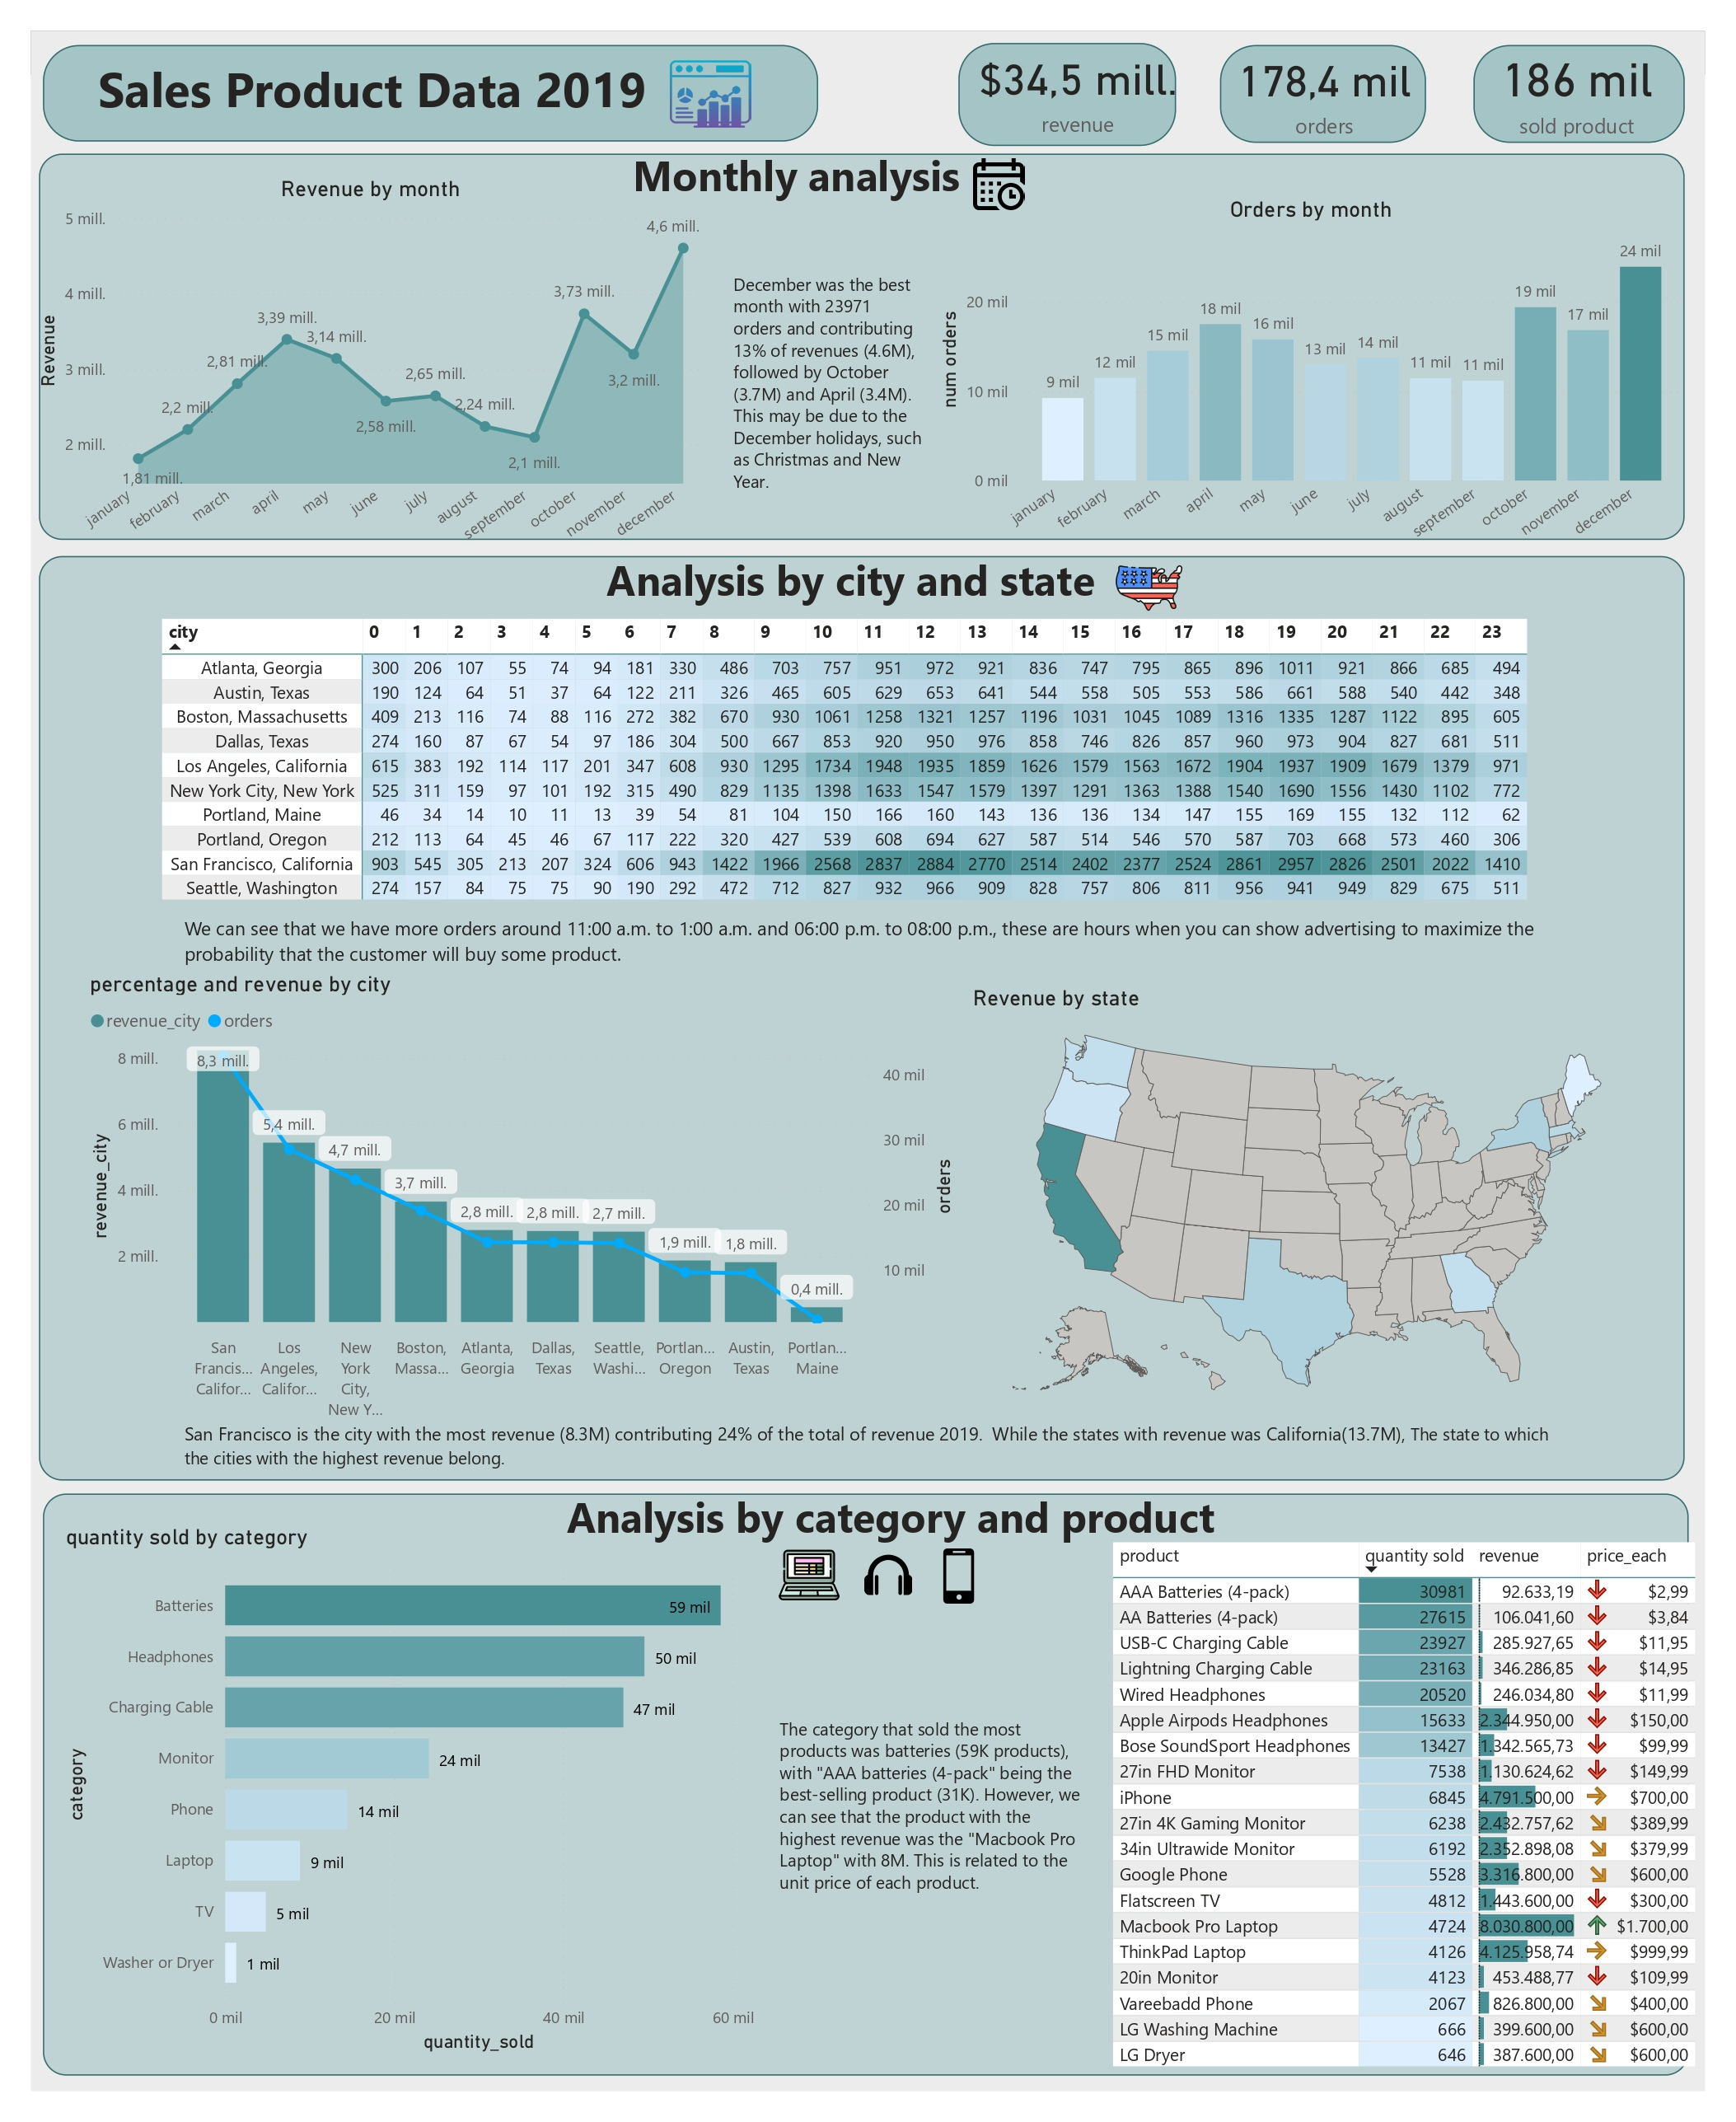

The page's visual inventory and layout, read from the dashboard file:
{"tool":"powerbi","page":{"name":"Página 1","canvas":[1300,1600],"ordinal":0},"visuals":[{"type":"lineChart","title":"Revenue by month","fields":{"Category":["revenue_month.month"],"Y":["Sum(revenue_month.revenue_month)"]},"box":[0,117.5,528.1,305.3],"z":0},{"type":"clusteredColumnChart","title":"Orders by month","fields":{"Category":["order_month.month"],"Y":["Sum(order_month.num_order_month)"]},"box":[696.5,126.3,587.7,289.5],"z":1000},{"type":"lineClusteredColumnComboChart","title":"percentage and  revenue by city","fields":{"Category":["% city.city"],"Y":["Sum(% city.revenue_state)"],"Y2":["Sum(order city.num_order)"]},"box":[45.6,738.6,680.7,356.1],"z":2000},{"type":"shapeMap","title":"Revenue by state","fields":{"Category":["revenue state.state"],"Value":["Sum(revenue state.revenue_state)"]},"box":[727,739.7,527,334.9],"z":3000},{"type":"tableEx","fields":{"Values":["products.product","Sum(products.quantity)","Sum(products.revenue)","Sum(products.price_each)"]},"box":[834.2,1180.8,465.8,417.8],"z":4000},{"type":"textbox","box":[0,0,496.4,71.4],"z":5000},{"type":"card","fields":{"Values":["Sum(Consulta1.revenue_year)"]},"box":[714,0,214,84.2],"z":6000},{"type":"card","fields":{"Values":["Sum(orders.total_orders)"]},"box":[919.3,0,178.9,84.2],"z":7000},{"type":"textbox","box":[461.4,71.9,300,77.2],"z":8000},{"type":"textbox","box":[534.9,169.8,155.6,187.3],"z":9000},{"type":"textbox","box":[438.1,395.2,515.9,55.6],"z":10000},{"type":"textbox","box":[111.1,679.4,1119,60.3],"z":11000},{"type":"textbox","box":[114,1075.4,1073.7,84.2],"z":12000},{"type":"card","fields":{"Values":["Sum(Consulta2.total_product_sold)"]},"box":[1098.2,0,177.2,84.2],"z":13000},{"type":"treemap","title":"quantity sold by category","fields":{"Group":["category.category"],"Values":["Sum(category.quantity_sold)"]},"box":[11.7,1200,566.7,378.3],"z":14000},{"type":"textbox","box":[483.8,1116.2,577,86.5],"z":15000},{"type":"pivotTable","fields":{"Rows":["hour peak.city"],"Values":["Sum(hour peak.total_orders)"],"Columns":["hour peak.hour"]},"box":[90.4,450.7,1139.7,228.8],"z":16000},{"type":"textbox","box":[578.3,1278.3,243.3,281.7],"z":17000}]}

Visuals, with their boxes in screenshot pixels (x1, y1, x2, y2):
"Revenue by month" lineChart: [31,182,711,575]
"Orders by month" clusteredColumnChart: [928,194,1685,566]
"percentage and  revenue by city" lineClusteredColumnComboChart: [90,982,966,1440]
"Revenue by state" shapeMap: [967,983,1646,1415]
tableEx - products.product x Sum(products.quantity): [1105,1551,1705,2089]
textbox: [31,31,670,123]
card - Sum(Consulta1.revenue_year): [951,31,1226,139]
card - Sum(orders.total_orders): [1214,31,1445,139]
textbox: [625,124,1012,223]
textbox: [720,250,920,490]
textbox: [595,540,1260,611]
textbox: [174,906,1615,983]
textbox: [178,1416,1561,1524]
card - Sum(Consulta2.total_product_sold): [1445,31,1673,139]
"quantity sold by category" treemap: [46,1576,776,2063]
textbox: [654,1469,1397,1580]
pivotTable - hour peak.city x Sum(hour peak.total_orders): [147,611,1615,906]
textbox: [775,1677,1089,2040]
